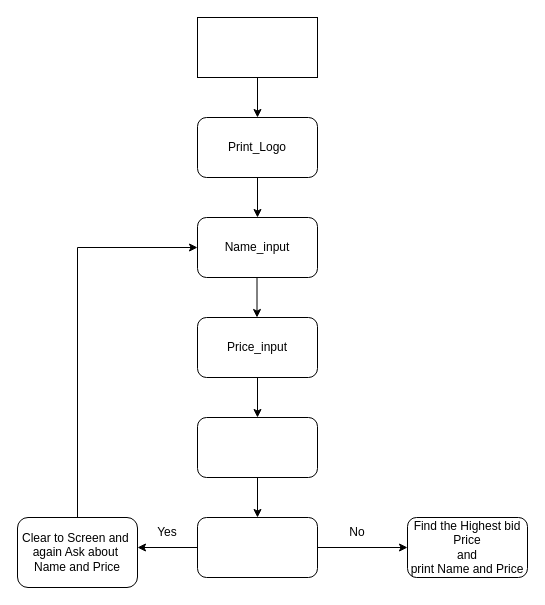
This 545x605 diagram has some shape labels left out. The centre of each missing label's shape, as x and y in pixels:
"Ask to others who want to bid?" belongs at [257,547].
"Save_input (Name : Key Price : Value)" belongs at [257,447].
"Start_Game" belongs at [257,47].
